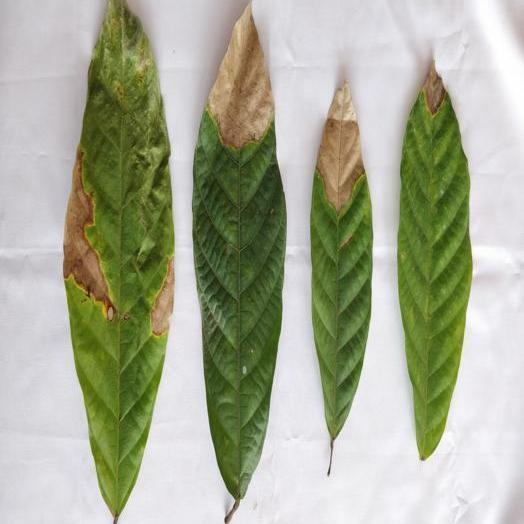Potassium: (63, 0, 173, 523)
